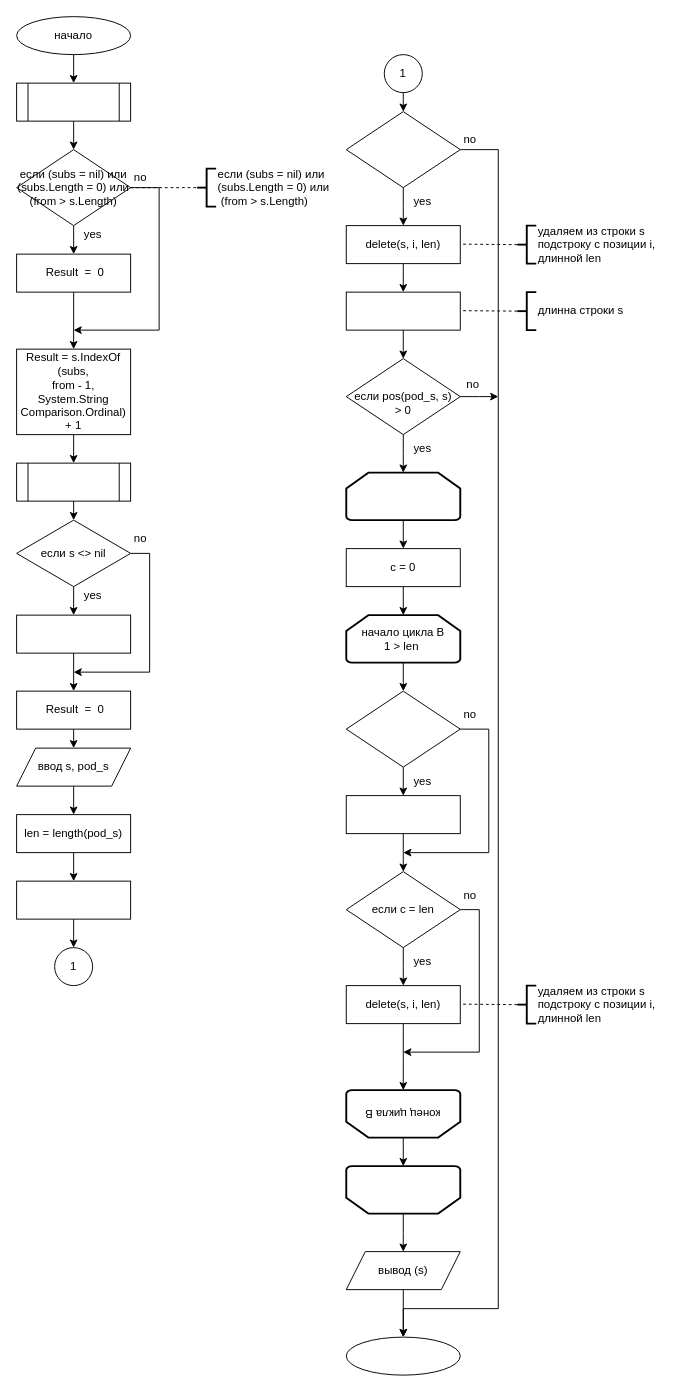
Some shapes in this 675 by 1392 pixel diagram are drawn without their labels. The centre of each missing label's shape, as x and y in pixels:
"c = c + 1" belongs at [402,814].
"i = pos(pod_s, s)" belongs at [73,899].
"Length" belongs at [73,481].
"lens = length(s)" belongs at [402,310].
"Pos" belongs at [73,101].
"Result = s.Length" belongs at [73,633].
"если i > 0" belongs at [402,149].
"если s[i + j - 1] = pod_s[j]" belongs at [402,728].
"конец" belongs at [402,1355].
"конец цикла A" belongs at [403,1189].
"начало цикла A lens - len < 1" belongs at [403,496].
